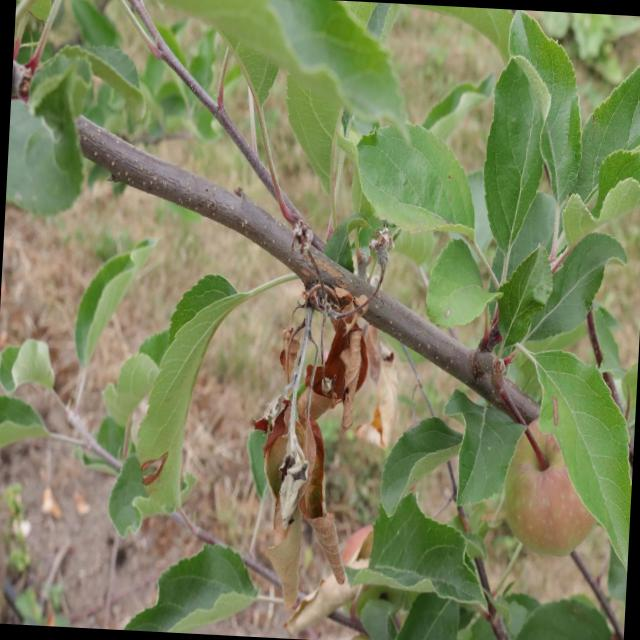-FireBlight-: (267, 285, 356, 598), (346, 326, 391, 442)
